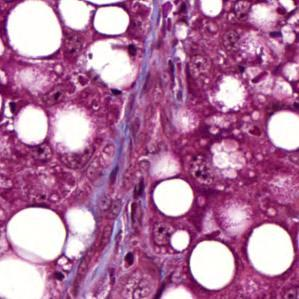steatosis: (6, 202, 67, 268), (189, 237, 238, 289), (9, 7, 60, 54), (249, 223, 295, 271), (153, 178, 194, 216)
